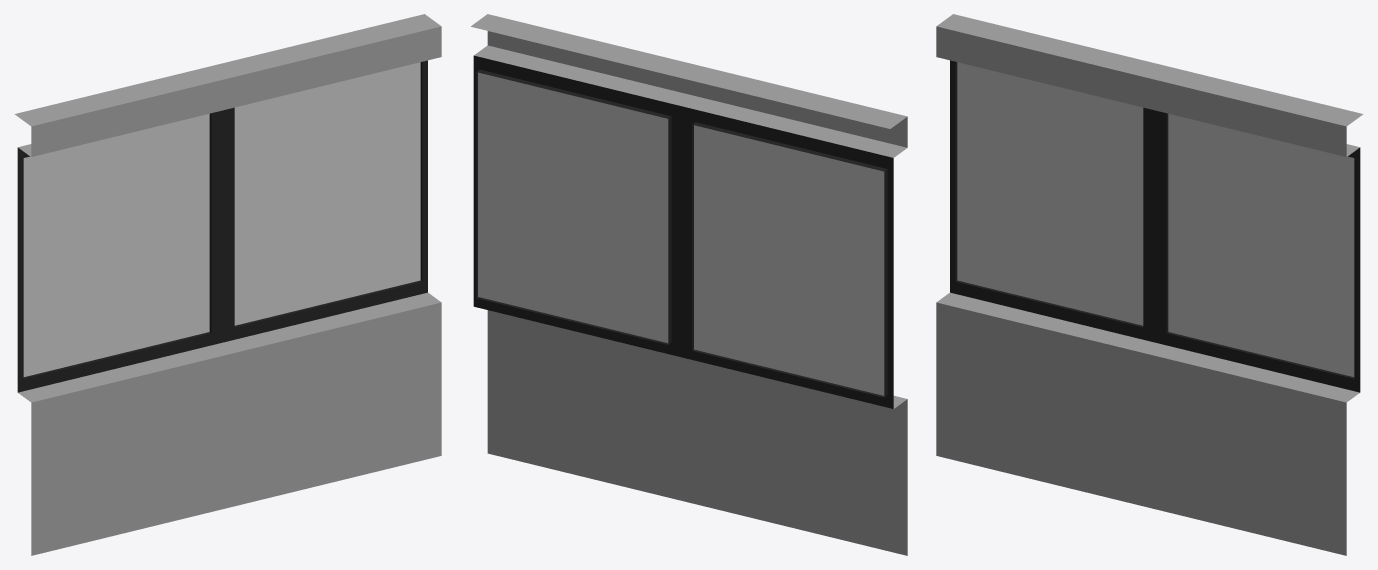
File: M_WallFWindow200White60.fbx
3 renders of one model, left to right at view 1: azimuth 30°, elevation 25°; view 2: azimuth 150°, elevation 25°; view 3: azimuth 330°, elevation 25°, orthographic. The views are drawn at different scales.
Parts seen in each view (by area): view 1: M_WallFWindow200White60; view 2: M_WallFWindow200White60; view 3: M_WallFWindow200White60.
Boxes of the visible parts, x1=… form: M_WallFWindow200White60: x1=14, y1=14, x2=441, y2=555; M_WallFWindow200White60: x1=471, y1=14, x2=907, y2=555; M_WallFWindow200White60: x1=936, y1=14, x2=1363, y2=555.
Bounding box in the file's own units: 350 × 25 × 350.
